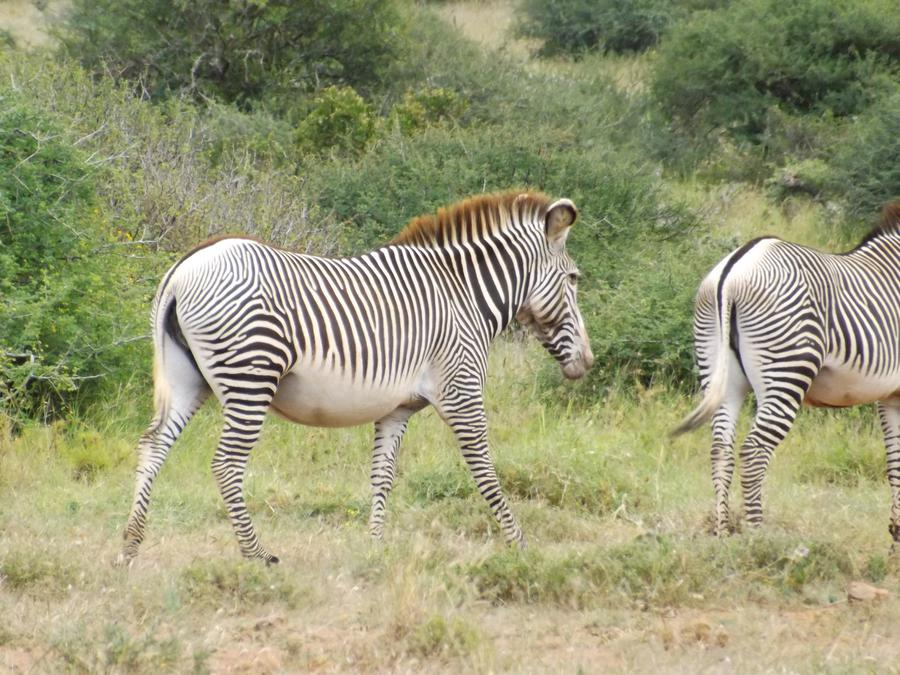zebra_grevys: (180, 242, 488, 422)
